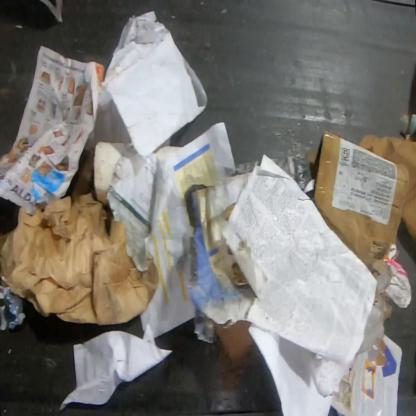cardboard: (312, 128, 410, 282), (358, 130, 415, 244), (216, 321, 254, 394), (93, 141, 132, 203)
